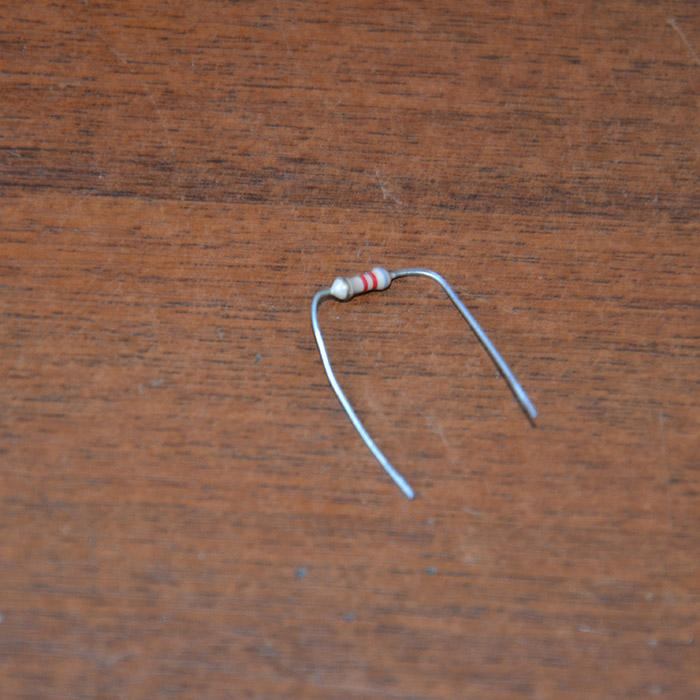resistor: (328, 265, 391, 301)
